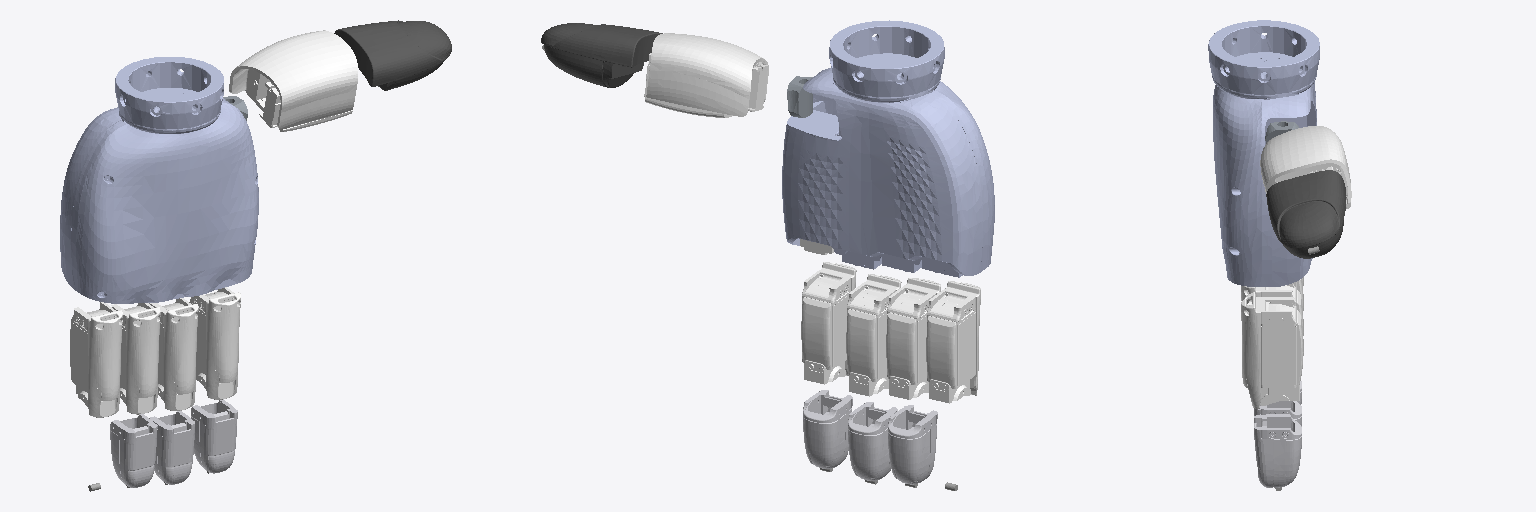
URDF robot description (xhand_right):
<?xml version="1.0" encoding="utf-8"?>
<!-- This URDF was automatically created by SolidWorks to URDF Exporter! Originally created by [author] ([email redacted]) 
     Commit Version: 1.6.0-4-g7f85cfe  Build Version: 1.6.7995.38578
     For more information, please see http://wiki.ros.org/sw_urdf_exporter -->
<robot name="xhand_right">
  <mujoco>
    <compiler meshdir="./meshes/" balanceinertia="true" discardvisual="false" />
  </mujoco>
  <link name="base_link">
  </link>
  <joint name="base_link_joint" type="fixed">
    <origin xyz="0 0 0.0" rpy="0 0 0" />
    <parent link="base_link" />
    <child link="right_hand_link" />
    <axis xyz="0 0 0" />
  </joint>
  <link name="right_hand_link">
    <inertial>
      <origin xyz="-0.00864974314300298 0.00326565882630545 -0.0555553270680597" rpy="0 0 0" />
      <mass value="0.529993400990084" />
      <inertia ixx="0.000418999657578924" ixy="-3.20486078360989E-06" ixz="-1.42467216933388E-05" iyy="0.000610637316693744" iyz="2.25090396270209E-06" izz="0.000344223764949739" />
    </inertial>
    <visual>
      <origin xyz="0 0 0" rpy="0 0 0" />
      <geometry>
        <mesh filename="./meshes/right_hand_link.STL" />
      </geometry>
      <material name="">
        <color rgba="0.792156862745098 0.819607843137255 0.933333333333333 1" />
      </material>
    </visual>
    <collision>
      <origin xyz="0 0 0" rpy="0 0 0" />
      <geometry>
        <mesh filename="./meshes/right_hand_link.STL" />
      </geometry>
    </collision>
  </link>
  <link name="right_hand_thumb_bend_link">
    <inertial>
      <origin xyz="0.0147280320458096 -0.000946297828788122 9.99380716844647E-05" rpy="0 0 0" />
      <mass value="0.0098848519917835" />
      <inertia ixx="3.44499507557935E-07" ixy="1.24641683760561E-08" ixz="-1.99285126830707E-08" iyy="2.18069247024708E-07" iyz="1.40954007652469E-09" izz="2.13225056396345E-07" />
    </inertial>
    <visual>
      <origin xyz="0 0 0" rpy="0 0 0" />
      <geometry>
        <mesh filename="./meshes/right_hand_thumb_bend_link.STL" />
      </geometry>
      <material name="">
        <color rgba="0.615686274509804 0.643137254901961 0.674509803921569 1" />
      </material>
    </visual>
    <!-- <collision>
      <origin xyz="0 0 0" rpy="0 0 0" />
      <geometry>
        <mesh filename="./meshes/right_hand_thumb_bend_link.STL" />
      </geometry>
    </collision> -->
  </link>
  <joint name="right_hand_thumb_bend_joint" type="revolute">
    <origin xyz="0.0228 0.0095 -0.0305" rpy="0 0 0" />
    <parent link="right_hand_link" />
    <child link="right_hand_thumb_bend_link" />
    <axis xyz="0 0 1" />
    <limit lower="0" upper="1.83" effort="1.1" velocity="8.63" />
    <dynamics damping="1" friction="1" />
  </joint>
  <link name="right_hand_thumb_rota_link1">
    <inertial>
      <origin xyz="0.028786112807607 0.000236855243653546 0.00247774188906292" rpy="0 0 0" />
      <mass value="0.153227150322195" />
      <inertia ixx="2.78629858227337E-05" ixy="-6.18512652464855E-07" ixz="-3.94101233177151E-07" iyy="2.82652402505648E-05" iyz="-1.49066720299264E-07" izz="3.52797384287539E-05" />
    </inertial>
    <visual>
      <origin xyz="0 0 0" rpy="0 0 0" />
      <geometry>
        <mesh filename="./meshes/right_hand_thumb_rota_link1.STL" />
      </geometry>
      <material name="">
        <color rgba="1 1 1 1" />
      </material>
    </visual>
    <collision>
      <origin xyz="0 0 0" rpy="0 0 0" />
      <geometry>
        <mesh filename="./meshes/right_hand_thumb_rota_link1.STL" />
      </geometry>
    </collision>
  </link>
  <joint name="right_hand_thumb_rota_joint1" type="revolute">
    <origin xyz="0.028599 0.0083177 0.00178" rpy="0.2618 0 0.0407" />
    <parent link="right_hand_thumb_bend_link" />
    <child link="right_hand_thumb_rota_link1" />
    <axis xyz="0 1 0" />
    <limit lower="-1.05" upper="1.57" effort="1.1" velocity="8.63" />
    <dynamics damping="1" friction="1" />
  </joint>
  <link name="right_hand_thumb_rota_link2">
    <inertial>
      <origin xyz="0.0246455701534738 -2.89183235859802E-05 0.00357056960005082" rpy="0 0 0" />
      <mass value="0.0374008322024407" />
      <inertia ixx="3.92922226445762E-06" ixy="-3.29527472059864E-09" ixz="6.44262388952476E-07" iyy="6.84887294284889E-06" iyz="-5.53284390524763E-09" izz="7.99686550560469E-06" />
    </inertial>
    <visual>
      <origin xyz="0 0 0" rpy="0 0 0" />
      <geometry>
        <mesh filename="./meshes/right_hand_thumb_rota_link2.STL" />
      </geometry>
      <material name="">
        <color rgba="0.384313725490196 0.384313725490196 0.384313725490196 1" />
      </material>
    </visual>
    <collision>
      <origin xyz="0 0 0" rpy="0 0 0" />
      <geometry>
        <mesh filename="./meshes/right_hand_thumb_rota_link2.STL" />
      </geometry>
    </collision>
  </link>
  <joint name="right_hand_thumb_rota_joint2" type="revolute">
    <origin xyz="0.0553 0 0" rpy="0 0 0" />
    <parent link="right_hand_thumb_rota_link1" />
    <child link="right_hand_thumb_rota_link2" />
    <axis xyz="0 1 0" />
    <limit lower="-0.175" upper="1.83" effort="0.4" velocity="14.38" />
    <dynamics damping="1" friction="1" />
  </joint>
  <link name="right_hand_thumb_rota_tip">
    <inertial>
      <origin xyz="8.28680679632043E-10 -8.24456677060714E-09 2.42861286636753E-16" rpy="0 0 0" />
      <mass value="3.53429173528852E-08" />
      <inertia ixx="9.35114688295028E-14" ixy="1.78168639300598E-20" ixz="1.38050658413677E-30" iyy="3.97607820220017E-14" iyz="-8.20415341429852E-29" izz="9.35114688295087E-14" />
    </inertial>
    <visual>
      <origin xyz="0 0 0" rpy="0 0 0" />
      <geometry>
        <mesh filename="./meshes/right_hand_thumb_rota_tip.STL" />
      </geometry>
      <material name="">
        <color rgba="0.698039215686274 0.698039215686274 0.698039215686274 1" />
      </material>
    </visual>
    <collision>
      <origin xyz="0 0 0" rpy="0 0 0" />
      <geometry>
        <mesh filename="./meshes/right_hand_thumb_rota_tip.STL" />
      </geometry>
    </collision>
  </link>
  <joint name="right_hand_thumb_rota_joint3" type="fixed">
    <origin xyz="0.0504024546888782 0 0" rpy="0 0 0" />
    <parent link="right_hand_thumb_rota_link2" />
    <child link="right_hand_thumb_rota_tip" />
    <axis xyz="0 0 0" />
  </joint>
  <link name="right_hand_index_bend_link">
    <inertial>
      <origin xyz="1.36538073637754E-05 0.000296873462792606 0.00896968935652223" rpy="0 0 0" />
      <mass value="0.0678358392130179" />
      <inertia ixx="1.24579812319209E-05" ixy="-4.99427571319824E-10" ixz="1.65009806493775E-08" iyy="1.16208585294442E-05" iyz="-1.16944382314649E-06" izz="4.10931551097277E-06" />
    </inertial>
    <visual>
      <origin xyz="0 0 0" rpy="0 0 0" />
      <geometry>
        <mesh filename="./meshes/right_hand_index_bend_link.STL" />
      </geometry>
      <material name="">
        <color rgba="1 1 1 1" />
      </material>
    </visual>
    <!-- <collision>
      <origin xyz="0 0 0" rpy="0 0 0" />
      <geometry>
        <mesh filename="./meshes/right_hand_index_bend_link.STL" />
      </geometry>
    </collision> -->
  </link>
  <joint name="right_hand_index_bend_joint" type="revolute">
    <origin xyz="0.0265 0.0065 -0.0899" rpy="0 0 0" />
    <parent link="right_hand_link" />
    <child link="right_hand_index_bend_link" />
    <axis xyz="0 -1 0" />
    <limit lower="-0.175" upper="0.175" effort="0.4" velocity="14.38" />
    <dynamics damping="1" friction="1" />
  </joint>
  <link name="right_hand_index_rota_link1">
    <inertial>
      <origin xyz="1.33096190413698E-05 -0.00117935414486181 -0.0314667599966276" rpy="0 0 0" />
      <mass value="0.0630022977710548" />
      <inertia ixx="1.27456069380942E-05" ixy="1.11699686434991E-08" ixz="6.33463870143636E-08" iyy="1.13159521343031E-05" iyz="7.4065245190496E-08" izz="3.96846198628846E-06" />
    </inertial>
    <visual>
      <origin xyz="0 0 0" rpy="0 0 0" />
      <geometry>
        <mesh filename="./meshes/right_hand_index_rota_link1.STL" />
      </geometry>
      <material name="">
        <color rgba="1 1 1 1" />
      </material>
    </visual>
    <collision>
      <origin xyz="0 0 0" rpy="0 0 0" />
      <geometry>
        <mesh filename="./meshes/right_hand_index_rota_link1.STL" />
      </geometry>
    </collision>
  </link>
  <joint name="right_hand_index_joint1" type="revolute">
    <origin xyz="0 0 -0.0178" rpy="0 0 0" />
    <parent link="right_hand_index_bend_link" />
    <child link="right_hand_index_rota_link1" />
    <axis xyz="1 0 0" />
    <limit lower="0" upper="1.92" effort="1.1" velocity="8.63" />
    <dynamics damping="1" friction="1" />
  </joint>
  <link name="right_hand_index_rota_link2">
    <inertial>
      <origin xyz="-0.000105984925346917 -0.000552347223434896 -0.0269533774745725" rpy="0 0 0" />
      <mass value="0.0179783067962212" />
      <inertia ixx="1.57447652121885E-06" ixy="2.76146302574291E-09" ixz="2.28756514040053E-08" iyy="1.41206918406645E-06" iyz="7.17000488972861E-09" izz="9.25906469039188E-07" />
    </inertial>
    <visual>
      <origin xyz="0 0 0" rpy="0 0 0" />
      <geometry>
        <mesh filename="./meshes/right_hand_index_rota_link2.STL" />
      </geometry>
      <material name="">
        <color rgba="0.866666666666667 0.866666666666667 0.890196078431372 1" />
      </material>
    </visual>
    <collision>
      <origin xyz="0 0 0" rpy="0 0 0" />
      <geometry>
        <mesh filename="./meshes/right_hand_index_rota_link2.STL" />
      </geometry>
    </collision>
  </link>
  <joint name="right_hand_index_joint2" type="revolute">
    <origin xyz="0 0 -0.0558" rpy="0 0 0" />
    <parent link="right_hand_index_rota_link1" />
    <child link="right_hand_index_rota_link2" />
    <axis xyz="1 0 0" />
    <limit lower="0" upper="1.92" effort="0.4" velocity="14.38" />
    <dynamics damping="1" friction="1" />
  </joint>
  <link name="right_hand_index_rota_tip">
    <inertial>
      <origin xyz="-5.05845365594837E-15 4.55364912443912E-16 0" rpy="0 0 0" />
      <mass value="3.53429173528852E-08" />
      <inertia ixx="3.97607820219958E-14" ixy="7.48111122560063E-29" ixz="-4.64935595683389E-31" iyy="9.35114688295087E-14" iyz="1.95060746234015E-42" izz="9.35114688295087E-14" />
    </inertial>
    <visual>
      <origin xyz="0 0 0" rpy="0 0 0" />
      <geometry>
        <mesh filename="./meshes/right_hand_index_rota_tip.STL" />
      </geometry>
      <material name="">
        <color rgba="0.698039215686274 0.698039215686274 0.698039215686274 1" />
      </material>
    </visual>
    <collision>
      <origin xyz="0 0 0" rpy="0 0 0" />
      <geometry>
        <mesh filename="./meshes/right_hand_index_rota_tip.STL" />
      </geometry>
    </collision>
  </link>
  <joint name="right_hand_index_rota_joint3" type="fixed">
    <origin xyz="0 0 -0.0425000000000002" rpy="0 0 0" />
    <parent link="right_hand_index_rota_link2" />
    <child link="right_hand_index_rota_tip" />
    <axis xyz="0 0 0" />
  </joint>
  <link name="right_hand_mid_link1">
    <inertial>
      <origin xyz="1.33096499071285E-05 -0.00117935409999994 -0.0314667603905118" rpy="0 0 0" />
      <mass value="0.0630022982853768" />
      <inertia ixx="1.27456066969008E-05" ixy="1.11700232206898E-08" ixz="6.3346305251064E-08" iyy="1.13159520159902E-05" iyz="7.40649382191835E-08" izz="3.96846193278891E-06" />
    </inertial>
    <visual>
      <origin xyz="0 0 0" rpy="0 0 0" />
      <geometry>
        <mesh filename="./meshes/right_hand_mid_link1.STL" />
      </geometry>
      <material name="">
        <color rgba="1 1 1 1" />
      </material>
    </visual>
    <collision>
      <origin xyz="0 0 0" rpy="0 0 0" />
      <geometry>
        <mesh filename="./meshes/right_hand_mid_link1.STL" />
      </geometry>
    </collision>
  </link>
  <joint name="right_hand_mid_joint1" type="revolute">
    <origin xyz="0.004 0.0065 -0.1082" rpy="0 0 0" />
    <parent link="right_hand_link" />
    <child link="right_hand_mid_link1" />
    <axis xyz="1 0 0" />
    <limit lower="0" upper="1.92" effort="1.1" velocity="8.63" />
    <dynamics damping="1" friction="1" />
  </joint>
  <link name="right_hand_mid_link2">
    <inertial>
      <origin xyz="-0.000105984925042516 -0.000552347223516997 -0.0269533774743325" rpy="0 0 0" />
      <mass value="0.0179783067957322" />
      <inertia ixx="1.5744765211742E-06" ixy="2.76146300139653E-09" ixz="2.28756514545347E-08" iyy="1.41206918402052E-06" iyz="7.17000487544398E-09" izz="9.25906469030995E-07" />
    </inertial>
    <visual>
      <origin xyz="0 0 0" rpy="0 0 0" />
      <geometry>
        <mesh filename="./meshes/right_hand_mid_link2.STL" />
      </geometry>
      <material name="">
        <color rgba="0.866666666666667 0.866666666666667 0.890196078431372 1" />
      </material>
    </visual>
    <collision>
      <origin xyz="0 0 0" rpy="0 0 0" />
      <geometry>
        <mesh filename="./meshes/right_hand_mid_link2.STL" />
      </geometry>
    </collision>
  </link>
  <joint name="right_hand_mid_joint2" type="revolute">
    <origin xyz="0 0 -0.0558" rpy="0 0 0" />
    <parent link="right_hand_mid_link1" />
    <child link="right_hand_mid_link2" />
    <axis xyz="1 0 0" />
    <limit lower="0" upper="1.94" effort="0.4" velocity="14.38" />
    <dynamics damping="1" friction="1" />
  </joint>
  <link name="right_hand_mid_tip">
    <inertial>
      <origin xyz="-8.8037216405823E-16 -2.25002308451572E-14 -3.33066907387547E-16" rpy="0 0 0" />
      <mass value="3.53429173528852E-08" />
      <inertia ixx="3.97607820219958E-14" ixy="4.6998091400205E-29" ixz="1.72625026613961E-29" iyy="9.35114688295087E-14" iyz="-1.34632261157722E-30" izz="9.35114688295087E-14" />
    </inertial>
    <visual>
      <origin xyz="0 0 0" rpy="0 0 0" />
      <geometry>
        <mesh filename="./meshes/right_hand_mid_tip.STL" />
      </geometry>
      <material name="">
        <color rgba="0.698039215686274 0.698039215686274 0.698039215686274 1" />
      </material>
    </visual>
    <collision>
      <origin xyz="0 0 0" rpy="0 0 0" />
      <geometry>
        <mesh filename="./meshes/right_hand_mid_tip.STL" />
      </geometry>
    </collision>
  </link>
  <joint name="right_hand_mid_joint3" type="fixed">
    <origin xyz="0 0 -0.0424999999999994" rpy="0 0 0" />
    <parent link="right_hand_mid_link2" />
    <child link="right_hand_mid_tip" />
    <axis xyz="0 0 0" />
  </joint>
  <link name="right_hand_ring_link1">
    <inertial>
      <origin xyz="1.33094707849453E-05 -0.00117935508416771 -0.0314667595731168" rpy="0 0 0" />
      <mass value="0.0630023036931237" />
      <inertia ixx="1.27456080835049E-05" ixy="1.11699058261677E-08" ixz="6.33463652456311E-08" iyy="1.13159526955937E-05" iyz="7.4065582403629E-08" izz="3.96846269729939E-06" />
    </inertial>
    <visual>
      <origin xyz="0 0 0" rpy="0 0 0" />
      <geometry>
        <mesh filename="./meshes/right_hand_ring_link1.STL" />
      </geometry>
      <material name="">
        <color rgba="1 1 1 1" />
      </material>
    </visual>
    <collision>
      <origin xyz="0 0 0" rpy="0 0 0" />
      <geometry>
        <mesh filename="./meshes/right_hand_ring_link1.STL" />
      </geometry>
    </collision>
  </link>
  <joint name="right_hand_ring_joint1" type="revolute">
    <origin xyz="-0.016 0.0065 -0.1052" rpy="0 0 0" />
    <parent link="right_hand_link" />
    <child link="right_hand_ring_link1" />
    <axis xyz="1 0 0" />
    <limit lower="0" upper="1.92" effort="1.1" velocity="8.63" />
    <dynamics damping="1" friction="1" />
  </joint>
  <link name="right_hand_ring_link2">
    <inertial>
      <origin xyz="-0.000105983959785005 -0.000552346745385368 -0.0269533714070292" rpy="0 0 0" />
      <mass value="0.0179783089787658" />
      <inertia ixx="1.57447525401884E-06" ixy="2.76131932783415E-09" ixz="2.28751135554219E-08" iyy="1.41206796765122E-06" iyz="7.16912906776482E-09" izz="9.2590665289646E-07" />
    </inertial>
    <visual>
      <origin xyz="0 0 0" rpy="0 0 0" />
      <geometry>
        <mesh filename="./meshes/right_hand_ring_link2.STL" />
      </geometry>
      <material name="">
        <color rgba="0.866666666666667 0.866666666666667 0.890196078431372 1" />
      </material>
    </visual>
    <collision>
      <origin xyz="0 0 0" rpy="0 0 0" />
      <geometry>
        <mesh filename="./meshes/right_hand_ring_link2.STL" />
      </geometry>
    </collision>
  </link>
  <joint name="right_hand_ring_joint2" type="revolute">
    <origin xyz="0 0 -0.0558" rpy="0 0 0" />
    <parent link="right_hand_ring_link1" />
    <child link="right_hand_ring_link2" />
    <axis xyz="1 0 0" />
    <limit lower="0" upper="1.92" effort="0.4" velocity="14.38" />
    <dynamics damping="1" friction="1" />
  </joint>
  <link name="right_hand_ring_tip">
    <inertial>
      <origin xyz="-9.92261828258734E-16 -2.21350715534641E-15 -3.05311331771918E-16" rpy="0 0 0" />
      <mass value="3.53429173528852E-08" />
      <inertia ixx="3.97607820219958E-14" ixy="-3.04227363665443E-29" ixz="1.66902038668838E-29" iyy="9.35114688295086E-14" iyz="1.38336184398146E-41" izz="9.35114688295086E-14" />
    </inertial>
    <visual>
      <origin xyz="0 0 0" rpy="0 0 0" />
      <geometry>
        <mesh filename="./meshes/right_hand_ring_tip.STL" />
      </geometry>
      <material name="">
        <color rgba="0.698039215686274 0.698039215686274 0.698039215686274 1" />
      </material>
    </visual>
    <collision>
      <origin xyz="0 0 0" rpy="0 0 0" />
      <geometry>
        <mesh filename="./meshes/right_hand_ring_tip.STL" />
      </geometry>
    </collision>
  </link>
  <joint name="right_hand_ring_joint3" type="fixed">
    <origin xyz="0 0 -0.0424999999999994" rpy="0 0 0" />
    <parent link="right_hand_ring_link2" />
    <child link="right_hand_ring_tip" />
    <axis xyz="0 0 0" />
  </joint>
  <link name="right_hand_pinky_link1">
    <inertial>
      <origin xyz="1.33096583489756E-05 -0.0011793548140165 -0.0314667599567012" rpy="0 0 0" />
      <mass value="0.0630023023053313" />
      <inertia ixx="1.27456074891274E-05" ixy="1.11700339861832E-08" ixz="6.33462884921005E-08" iyy="1.13159522774957E-05" iyz="7.40652867581976E-08" izz="3.9684624682918E-06" />
    </inertial>
    <visual>
      <origin xyz="0 0 0" rpy="0 0 0" />
      <geometry>
        <mesh filename="./meshes/right_hand_pinky_link1.STL" />
      </geometry>
      <material name="">
        <color rgba="1 1 1 1" />
      </material>
    </visual>
    <collision>
      <origin xyz="0 0 0" rpy="0 0 0" />
      <geometry>
        <mesh filename="./meshes/right_hand_pinky_link1.STL" />
      </geometry>
    </collision>
  </link>
  <joint name="right_hand_pinky_joint1" type="revolute">
    <origin xyz="-0.036 0.0065 -0.1022" rpy="0 0 0" />
    <parent link="right_hand_link" />
    <child link="right_hand_pinky_link1" />
    <axis xyz="1 0 0" />
    <limit lower="0" upper="1.92" effort="1.1" velocity="8.63" />
    <dynamics damping="1" friction="1" />
  </joint>
  <link name="right_hand_pinky_link2">
    <inertial>
      <origin xyz="-0.000105984888530107 -0.000552347260036744 -0.0269533774032427" rpy="0 0 0" />
      <mass value="0.017978306641324" />
      <inertia ixx="1.57447650660388E-06" ixy="2.76145985777475E-09" ixz="2.28756571611184E-08" iyy="1.41206916992156E-06" iyz="7.16999887456573E-09" izz="9.25906462770731E-07" />
    </inertial>
    <visual>
      <origin xyz="0 0 0" rpy="0 0 0" />
      <geometry>
        <mesh filename="./meshes/right_hand_pinky_link2.STL" />
      </geometry>
      <material name="">
        <color rgba="0.866666666666667 0.866666666666667 0.890196078431372 1" />
      </material>
    </visual>
    <collision>
      <origin xyz="0 0 0" rpy="0 0 0" />
      <geometry>
        <mesh filename="./meshes/right_hand_pinky_link2.STL" />
      </geometry>
    </collision>
  </link>
  <joint name="right_hand_pinky_joint2" type="revolute">
    <origin xyz="0 0 -0.0558" rpy="0 0 0" />
    <parent link="right_hand_pinky_link1" />
    <child link="right_hand_pinky_link2" />
    <axis xyz="1 0 0" />
    <limit lower="0" upper="1.92" effort="0.4" velocity="14.38" />
    <dynamics damping="1" friction="1" />
  </joint>
  <link name="right_hand_pinky_tip">
    <inertial>
      <origin xyz="-1.00613961606655E-15 3.60822483003176E-16 -3.05311331771918E-16" rpy="0 0 0" />
      <mass value="3.53429173528851E-08" />
      <inertia ixx="3.97607820219958E-14" ixy="-2.67491914041387E-29" ixz="2.03175360376622E-28" iyy="9.35114688295085E-14" iyz="1.39008807661022E-41" izz="9.35114688295085E-14" />
    </inertial>
    <visual>
      <origin xyz="0 0 0" rpy="0 0 0" />
      <geometry>
        <mesh filename="./meshes/right_hand_pinky_tip.STL" />
      </geometry>
      <material name="">
        <color rgba="0.698039215686274 0.698039215686274 0.698039215686274 1" />
      </material>
    </visual>
    <collision>
      <origin xyz="0 0 0" rpy="0 0 0" />
      <geometry>
        <mesh filename="./meshes/right_hand_pinky_tip.STL" />
      </geometry>
    </collision>
  </link>
  <joint name="right_hand_pinky_joint3" type="fixed">
    <origin xyz="0 0 -0.0424999999999994" rpy="0 0 0" />
    <parent link="right_hand_pinky_link2" />
    <child link="right_hand_pinky_tip" />
    <axis xyz="0 0 0" />
  </joint>
  <link name="right_hand_ee_link">
    <inertial>
      <origin xyz="2.53177486972285E-18 3.50815468491248E-16 0" rpy="0 0 0" />
      <mass value="3.53429173528852E-08" />
      <inertia ixx="3.97607820219958E-14" ixy="4.74909746440606E-29" ixz="1.39310580749999E-28" iyy="9.35114688295087E-14" iyz="1.37198229082169E-41" izz="9.35114688295087E-14" />
    </inertial>
    <visual>
      <origin xyz="0 0 0" rpy="0 0 0" />
      <geometry>
        <mesh filename="./meshes/right_hand_ee_link.STL" />
      </geometry>
      <material name="">
        <color rgba="0.698039215686274 0.698039215686274 0.698039215686274 1" />
      </material>
    </visual>
    <collision>
      <origin xyz="0 0 0" rpy="0 0 0" />
      <geometry>
        <mesh filename="./meshes/right_hand_ee_link.STL" />
      </geometry>
    </collision>
  </link>
  <joint name="right_hand_ee_joint" type="fixed">
    <origin xyz="0 0 -0.065" rpy="0 0 0" />
    <parent link="right_hand_link" />
    <child link="right_hand_ee_link" />
    <axis xyz="0 0 0" />
  </joint>
</robot>

--- Facts derived from the render (not from the file) ---
The picture shows the robot from 3 angles, left to right: view 1: azimuth 30°, elevation 25°; view 2: azimuth 150°, elevation 25°; view 3: azimuth 270°, elevation 25°; orthographic projection.
Model xhand_right with 20 links and 19 joints (12 revolute, 7 fixed), rooted at base_link, posed all joints at 0.
Links seen in each view (by area): view 1: right_hand_link, right_hand_thumb_rota_link1, right_hand_thumb_rota_link2, right_hand_pinky_link1, right_hand_index_rota_link1, right_hand_ring_link1, right_hand_mid_link1, right_hand_ring_link2, right_hand_index_rota_link2, right_hand_mid_link2; view 2: right_hand_link, right_hand_thumb_rota_link1, right_hand_pinky_link1, right_hand_thumb_rota_link2, right_hand_index_rota_link1, right_hand_ring_link1, right_hand_mid_link1, right_hand_ring_link2, right_hand_index_rota_link2, right_hand_mid_link2, right_hand_thumb_bend_link; view 3: right_hand_link, right_hand_index_rota_link1, right_hand_thumb_rota_link2, right_hand_thumb_rota_link1, right_hand_index_rota_link2, right_hand_mid_link1, right_hand_mid_link2.
Link boxes in pixels (bbox=[...]): right_hand_link: bbox=[60, 57, 258, 303]; right_hand_thumb_rota_link1: bbox=[229, 30, 357, 131]; right_hand_thumb_rota_link2: bbox=[334, 20, 451, 90]; right_hand_pinky_link1: bbox=[70, 302, 122, 417]; right_hand_index_rota_link1: bbox=[189, 287, 240, 399]; right_hand_ring_link1: bbox=[111, 303, 160, 414]; right_hand_mid_link1: bbox=[149, 298, 198, 410]; right_hand_ring_link2: bbox=[110, 414, 157, 487]; right_hand_index_rota_link2: bbox=[191, 399, 237, 473]; right_hand_mid_link2: bbox=[149, 411, 194, 484]; right_hand_link: bbox=[782, 20, 994, 277]; right_hand_thumb_rota_link1: bbox=[644, 33, 768, 117]; right_hand_pinky_link1: bbox=[926, 281, 980, 403]; right_hand_thumb_rota_link2: bbox=[541, 23, 662, 87]; right_hand_index_rota_link1: bbox=[801, 262, 856, 384]; right_hand_ring_link1: bbox=[886, 278, 940, 399]; right_hand_mid_link1: bbox=[846, 274, 901, 396]; right_hand_ring_link2: bbox=[888, 405, 937, 484]; right_hand_index_rota_link2: bbox=[803, 390, 852, 468]; right_hand_mid_link2: bbox=[848, 402, 897, 480]; right_hand_thumb_bend_link: bbox=[787, 76, 812, 117]; right_hand_link: bbox=[1208, 20, 1319, 286]; right_hand_index_rota_link1: bbox=[1241, 292, 1303, 408]; right_hand_thumb_rota_link2: bbox=[1266, 170, 1345, 258]; right_hand_thumb_rota_link1: bbox=[1260, 126, 1351, 208]; right_hand_index_rota_link2: bbox=[1254, 414, 1301, 487]; right_hand_mid_link1: bbox=[1241, 283, 1303, 335]; right_hand_mid_link2: bbox=[1254, 401, 1301, 425].
Bounding box of the posed robot: 0.2091 × 0.0641 × 0.208 m (x, y, z).
Meshes: 19 distinct files referenced, 18 mesh visuals loaded (18 binary STL); not drawn: 1 (reference not matched to a file when rendering).
